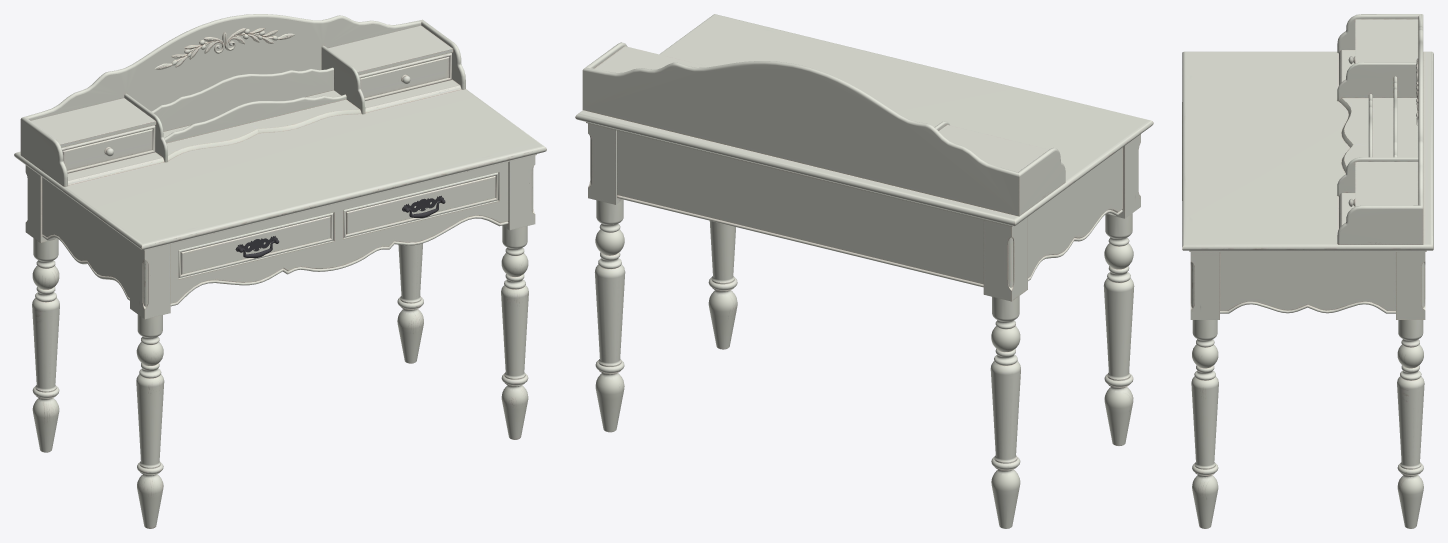
File: example148.glb
The picture shows the model from 3 angles, left to right: view 1: azimuth 30°, elevation 25°; view 2: azimuth 150°, elevation 25°; view 3: azimuth 270°, elevation 25°; orthographic projection. The views are drawn at different scales.
Visible parts, largest first — view 1: PPD1.paint, PPD1.metal; view 2: PPD1.paint; view 3: PPD1.paint.
Boxes of the visible parts, x1=… form: PPD1.paint: x1=14, y1=14, x2=546, y2=528; PPD1.metal: x1=235, y1=195, x2=445, y2=258; PPD1.paint: x1=575, y1=14, x2=1153, y2=528; PPD1.paint: x1=1182, y1=14, x2=1433, y2=528.
Size of the model in its own units: 1 by 0.9045 by 0.5454.
2 materials, 2 textured.
